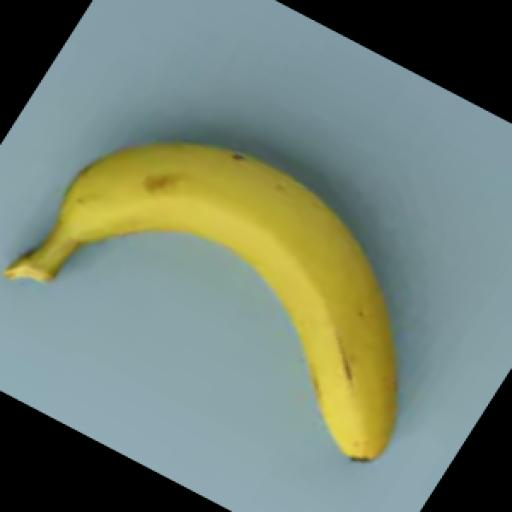banana-ripe: (0, 55, 428, 474)
